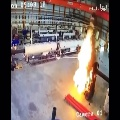fire: (73, 17, 93, 94)
